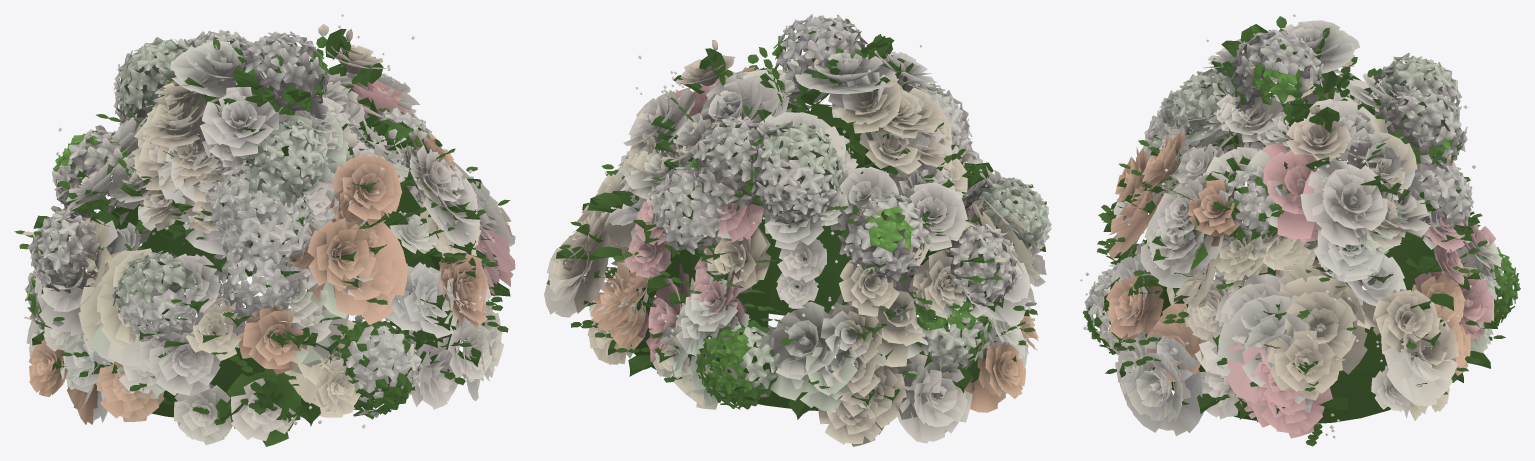
File: mound_c_bright_v9.glb
The picture shows the model from 3 angles, left to right: view 1: azimuth 30°, elevation 25°; view 2: azimuth 150°, elevation 25°; view 3: azimuth 270°, elevation 25°; orthographic projection. The views are drawn at different scales.
Visible parts, largest first — view 1: petals; view 2: petals; view 3: petals.
Part boxes in pixels (box(x1,y1,x2,y2)): petals: box(14, 14, 515, 446); petals: box(544, 14, 1051, 446); petals: box(1080, 14, 1520, 446).
Bounding box in the file's own units: 0.0154 × 0.0105 × 0.0125.
